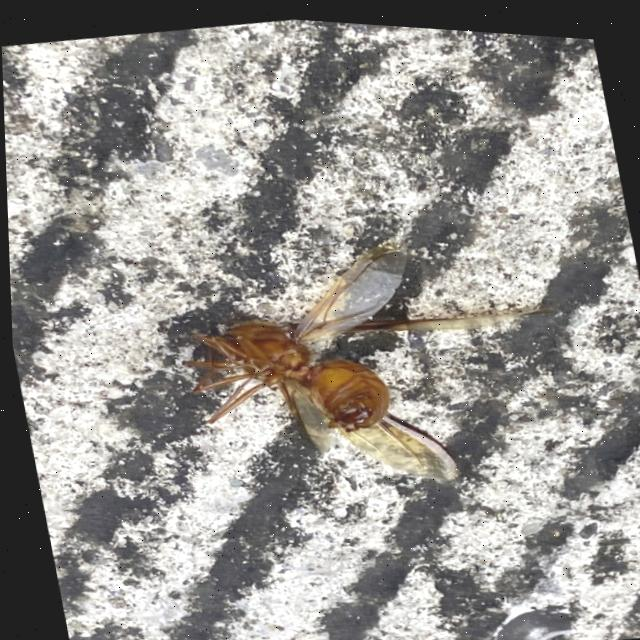Dead-Male-Alate: (158, 203, 588, 523)
